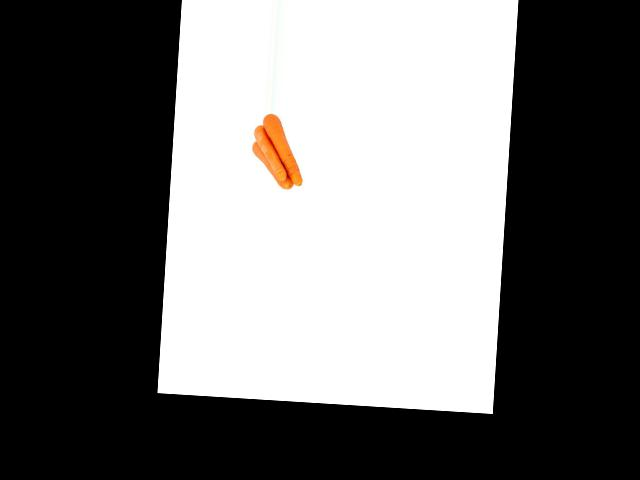carrot: (259, 112, 305, 184)
